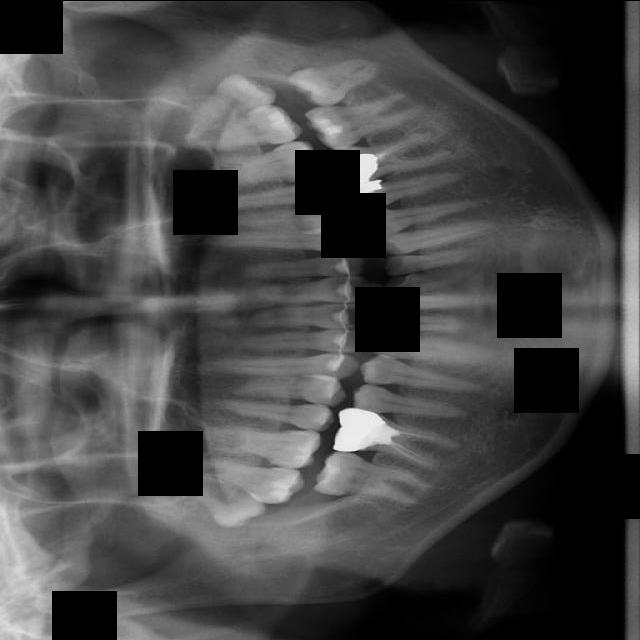3M ESPE Implant: (175, 461, 271, 542)
52: (301, 96, 360, 159), (246, 90, 305, 153), (333, 131, 391, 189), (332, 404, 392, 460), (273, 130, 329, 189), (351, 174, 397, 215), (301, 197, 349, 236), (295, 172, 338, 211)
73: (370, 416, 457, 475), (369, 125, 454, 177), (580, 11, 592, 22)
BioHorizons Implant: (170, 100, 304, 155)
BioLife Implant: (175, 58, 280, 170)
Biomet 3i Implant: (285, 53, 381, 113)
Blue Sky Bio Implant: (303, 88, 431, 154)
Caries: (171, 446, 307, 510)
Implant: (312, 447, 435, 506)
